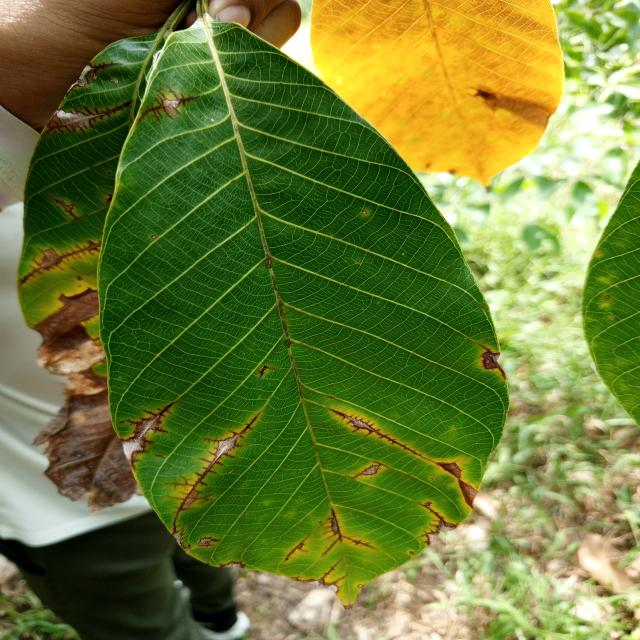Colletotrichum: (362, 210, 367, 215), (358, 584, 363, 588), (151, 235, 156, 239), (409, 552, 414, 554), (328, 233, 331, 236), (356, 260, 359, 262)
Corynespora: (164, 410, 262, 533), (328, 408, 423, 456), (120, 401, 176, 470), (19, 240, 102, 284), (43, 100, 133, 136), (136, 85, 198, 127), (476, 342, 506, 379), (45, 195, 84, 221), (346, 460, 389, 479), (323, 508, 343, 542), (418, 501, 445, 523), (286, 534, 310, 557), (172, 526, 192, 552), (322, 557, 343, 579), (342, 535, 374, 547), (321, 538, 339, 556), (89, 62, 118, 73), (194, 537, 221, 548), (256, 365, 277, 378), (415, 528, 435, 538), (103, 190, 113, 203)
Leaf-Blight: (30, 288, 144, 512), (458, 479, 478, 509), (435, 462, 462, 479), (428, 532, 440, 544), (439, 527, 455, 532)
